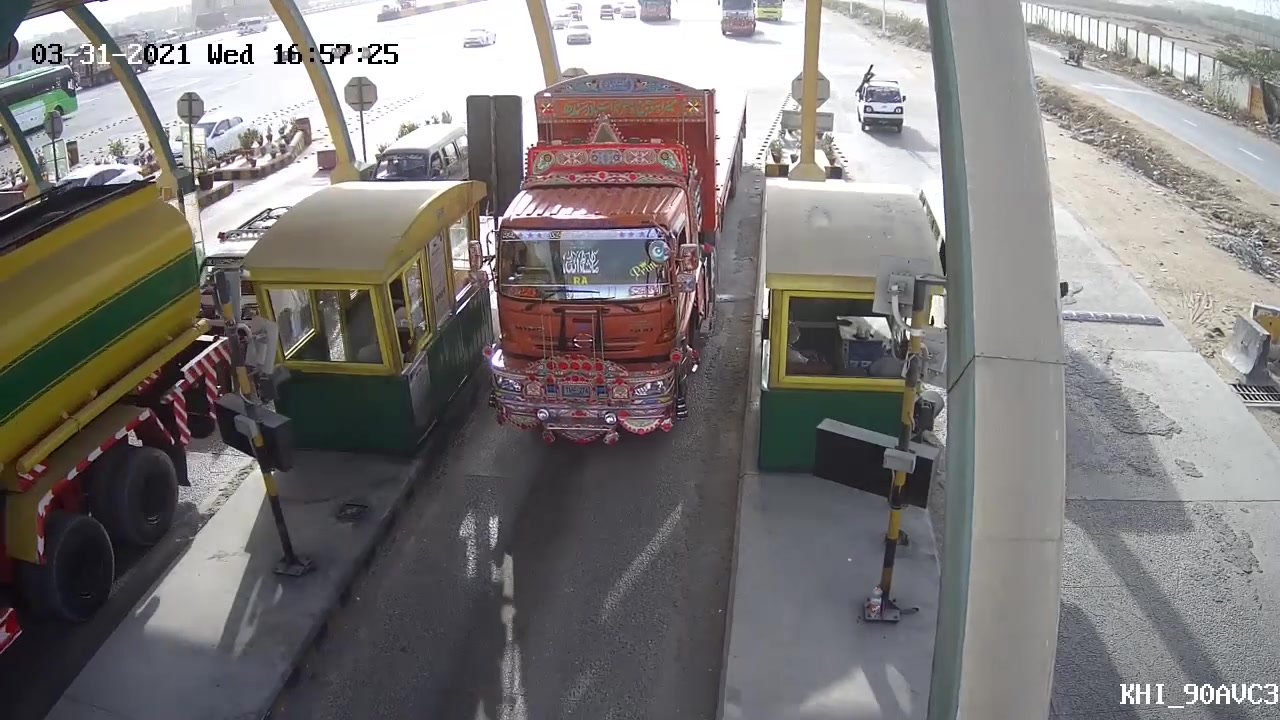F6: (479, 73, 751, 447)
